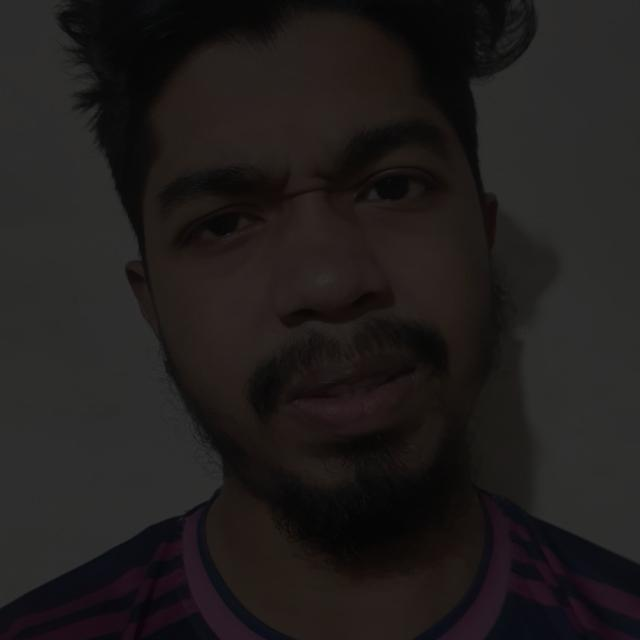Disgust: (83, 30, 545, 534)
